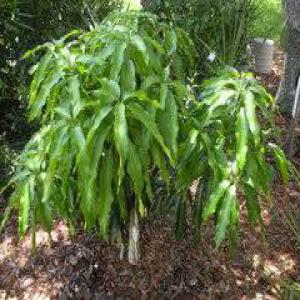Tree: (10, 3, 200, 262)
